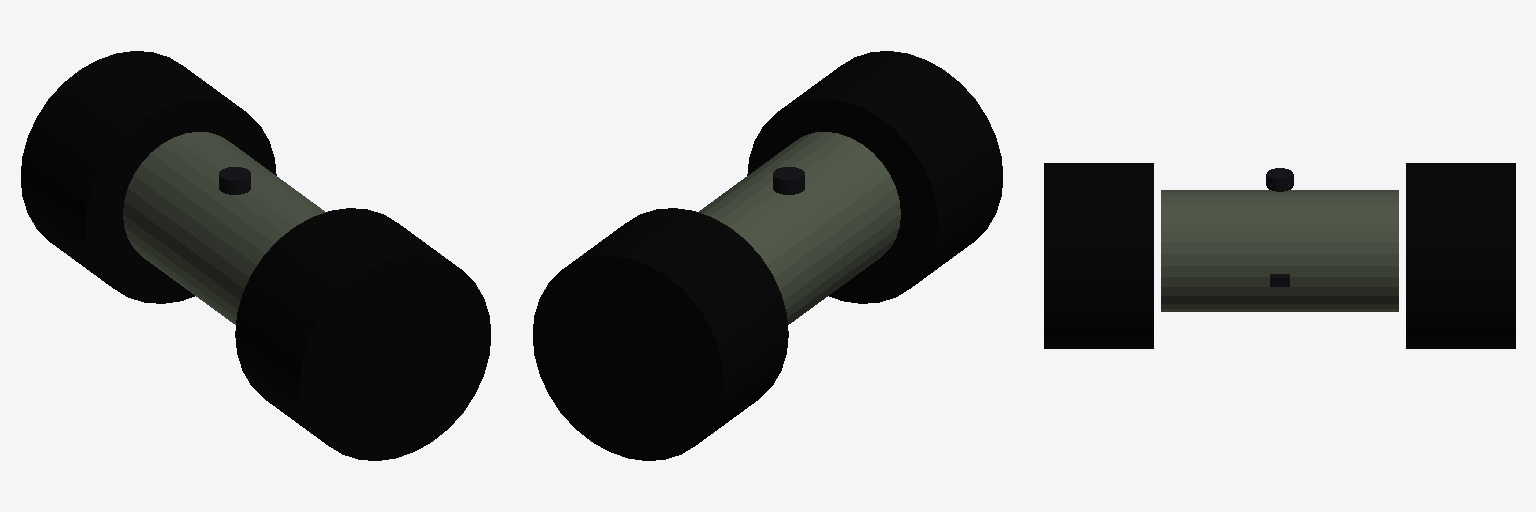
robot.urdf — expo_drone:
<?xml version="1.0"?>
<!--
  expo_drone: drone de reconhecimento do ExpoTech (arte final: RobotDescription/expo_drone_source/Drone.blend).
  Duas rodas coaxiais grandes (estilo throwbot). O corpo fica pendurado no eixo, com o centro de massa
  30 cm ABAIXO do eixo (baterias no fundo): é isso que o mantém em pé, como um pêndulo.
  O controle limita a aceleração (1 m/s²) para a reação do torque das rodas não girar o corpo.

  Medidas tiradas do Drone.fbx (ExpoTech > Diagnóstico > Medir modelo do drone):
    raio da roda 0.55 m, largura da roda 0.645 m, centros das rodas a ±1.068 m do centro (track 2.136 m),
    corpo ~2.05 x 0.80 x 0.74 m. A colisão usa primitivas; o visual vem do FBX.
  Frames ROS: x frente, y esquerda, z cima. base_link = centro do eixo das rodas.
  Visual: left_wheel_link recebe a malha "Wheel_R" do FBX e right_wheel_link a "Wheel_L"
  (com a frente em +Z no Unity, o Wheel_L do Blender fica do lado direito).
-->
<robot name="expo_drone">
  <material name="body_olive"><color rgba="0.33 0.36 0.30 1"/></material>
  <material name="tire_black"><color rgba="0.05 0.05 0.05 1"/></material>
  <material name="sensor_dark"><color rgba="0.1 0.1 0.12 1"/></material>

  <link name="base_link">
    <!-- Centro de massa 0.3 m abaixo do eixo (estabilidade de pêndulo) e 3 cm para trás,
         compensando a câmera na frente: com isso o corpo fica nivelado em repouso. -->
    <inertial>
      <origin xyz="-0.03 0 -0.3" rpy="0 0 0"/>
      <mass value="30"/>
      <inertia ixx="5.87" ixy="0" ixz="0" iyy="1.94" iyz="0" izz="5.87"/>
    </inertial>
    <visual>
      <origin xyz="0 0 0.03" rpy="1.5708 0 0"/>
      <geometry><cylinder radius="0.36" length="1.40"/></geometry>
      <material name="body_olive"/>
    </visual>
    <collision>
      <origin xyz="0 0 0.03" rpy="1.5708 0 0"/>
      <geometry><cylinder radius="0.36" length="1.40"/></geometry>
    </collision>
  </link>

  <link name="left_wheel_link">
    <inertial>
      <mass value="6"/>
      <inertia ixx="0.662" ixy="0" ixz="0" iyy="0.9075" iyz="0" izz="0.662"/>
    </inertial>
    <visual>
      <origin xyz="0 0 0" rpy="1.5708 0 0"/>
      <geometry><cylinder radius="0.55" length="0.645"/></geometry>
      <material name="tire_black"/>
    </visual>
    <!-- Colisão estreita (0,16 m): as rodas reais têm roletes, que quase não resistem de lado.
         Com a largura cheia (0,645 m) a roda "raspa" no chão e o drone quase não gira no lugar. -->
    <collision>
      <origin xyz="0 0 0" rpy="1.5708 0 0"/>
      <geometry><cylinder radius="0.55" length="0.16"/></geometry>
    </collision>
  </link>

  <link name="right_wheel_link">
    <inertial>
      <mass value="6"/>
      <inertia ixx="0.662" ixy="0" ixz="0" iyy="0.9075" iyz="0" izz="0.662"/>
    </inertial>
    <visual>
      <origin xyz="0 0 0" rpy="1.5708 0 0"/>
      <geometry><cylinder radius="0.55" length="0.645"/></geometry>
      <material name="tire_black"/>
    </visual>
    <!-- Colisão estreita (0,16 m): as rodas reais têm roletes, que quase não resistem de lado.
         Com a largura cheia (0,645 m) a roda "raspa" no chão e o drone quase não gira no lugar. -->
    <collision>
      <origin xyz="0 0 0" rpy="1.5708 0 0"/>
      <geometry><cylinder radius="0.55" length="0.16"/></geometry>
    </collision>
  </link>

  <!-- Sensores: links fixos com 3,5 kg (eletrônica + suporte), razão de massa 8,6:1 com o corpo. -->
  <link name="lidar_link">
    <inertial>
      <mass value="3.5"/>
      <inertia ixx="0.01" ixy="0" ixz="0" iyy="0.01" iyz="0" izz="0.01"/>
    </inertial>
    <visual>
      <geometry><cylinder radius="0.08" length="0.08"/></geometry>
      <material name="sensor_dark"/>
    </visual>
  </link>

  <link name="camera_link">
    <inertial>
      <mass value="3.5"/>
      <inertia ixx="0.01" ixy="0" ixz="0" iyy="0.01" iyz="0" izz="0.01"/>
    </inertial>
    <visual>
      <geometry><box size="0.06 0.12 0.06"/></geometry>
      <material name="sensor_dark"/>
    </visual>
  </link>

  <link name="imu_link">
    <inertial>
      <mass value="3.5"/>
      <inertia ixx="0.01" ixy="0" ixz="0" iyy="0.01" iyz="0" izz="0.01"/>
    </inertial>
  </link>

  <joint name="left_wheel_joint" type="continuous">
    <parent link="base_link"/><child link="left_wheel_link"/>
    <origin xyz="0 1.068 0" rpy="0 0 0"/>
    <axis xyz="0 1 0"/>
    <limit effort="120" velocity="15"/>
    <dynamics damping="0.05" friction="0.0"/>
  </joint>

  <joint name="right_wheel_joint" type="continuous">
    <parent link="base_link"/><child link="right_wheel_link"/>
    <origin xyz="0 -1.068 0" rpy="0 0 0"/>
    <axis xyz="0 1 0"/>
    <limit effort="120" velocity="15"/>
    <dynamics damping="0.05" friction="0.0"/>
  </joint>

  <joint name="lidar_joint" type="fixed">
    <parent link="base_link"/><child link="lidar_link"/>
    <origin xyz="-0.12 0 0.44" rpy="0 0 0"/>
  </joint>

  <joint name="camera_joint" type="fixed">
    <parent link="base_link"/><child link="camera_link"/>
    <origin xyz="0.38 0 0.02" rpy="0 0 0"/>
  </joint>

  <joint name="imu_joint" type="fixed">
    <parent link="base_link"/><child link="imu_link"/>
    <origin xyz="0 0 0" rpy="0 0 0"/>
  </joint>
</robot>

--- What the picture shows (computed from the rendered views, not written in the file) ---
Views: 3 orthographic renders of the robot side by side, from view 1: azimuth 30°, elevation 25°; view 2: azimuth 150°, elevation 25°; view 3: azimuth 270°, elevation 25°.
Robot: expo_drone — 6 links, 5 joints (2 continuous, 3 fixed); root link base_link; default pose: every joint at zero.
Visible links, largest first — view 1: right_wheel_link, left_wheel_link, base_link, lidar_link; view 2: left_wheel_link, right_wheel_link, base_link, lidar_link; view 3: base_link, left_wheel_link, right_wheel_link, lidar_link.
Link boxes in pixels (left/top/right/bottom): right_wheel_link: left=235, top=208, right=490, bottom=460; left_wheel_link: left=21, top=51, right=276, bottom=303; base_link: left=123, top=132, right=325, bottom=324; lidar_link: left=219, top=167, right=250, bottom=194; left_wheel_link: left=533, top=208, right=788, bottom=460; right_wheel_link: left=747, top=51, right=1002, bottom=303; base_link: left=698, top=132, right=900, bottom=324; lidar_link: left=773, top=167, right=804, bottom=194; base_link: left=1161, top=190, right=1398, bottom=311; left_wheel_link: left=1406, top=163, right=1515, bottom=348; right_wheel_link: left=1044, top=163, right=1153, bottom=348; lidar_link: left=1266, top=168, right=1293, bottom=191.
Bounding box of the posed robot: 1.1 × 2.78 × 1.1 m (x, y, z).
Geometry: primitives only (box / cylinder / sphere), no mesh files.
